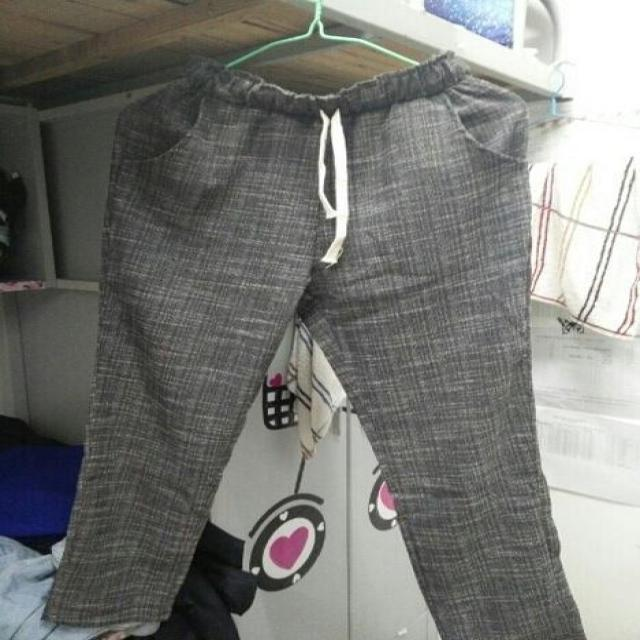trousers: (140, 48, 602, 630)
